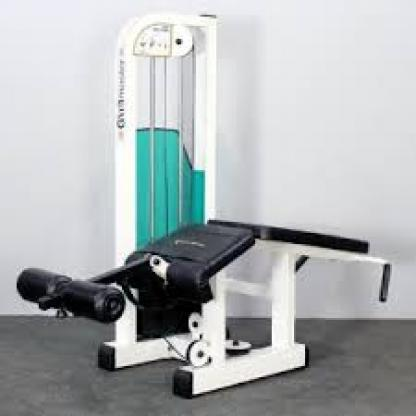reg curl machine: (12, 11, 399, 398)
